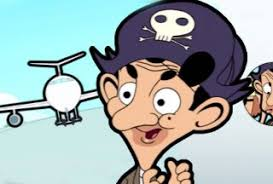mrbean: (89, 1, 252, 184)
